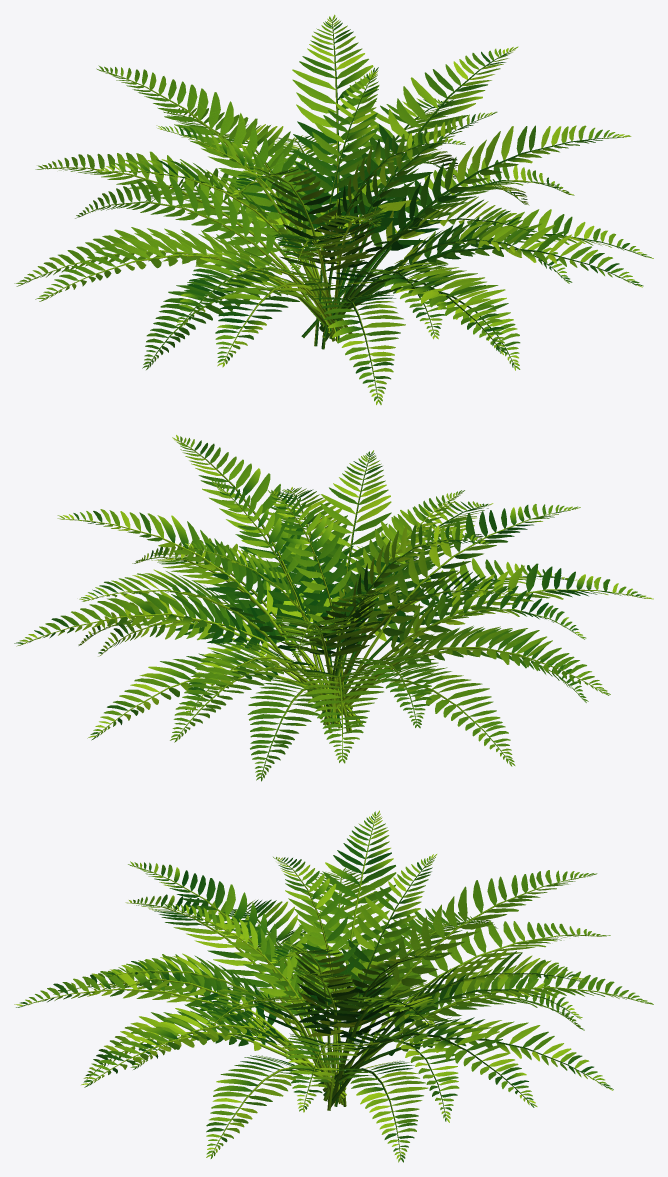
Rendered from Bush.fbx.
3 views of the same model, one above another, from view 1: azimuth 30°, elevation 25°; view 2: azimuth 150°, elevation 25°; view 3: azimuth 270°, elevation 25° (orthographic). The views are drawn at different scales.
Visible parts, largest first — view 1: Cylinder.004, Cylinder.027, Cylinder.025, Cylinder.017, Cylinder.032, Cylinder.024, Cylinder.012, Cylinder.009, Cylinder.014, Cylinder.006, Cylinder.010, Cylinder.008 (+23 smaller); view 2: Cylinder.017, Cylinder.021, Cylinder.019, Cylinder.033, Cylinder.004, Cylinder.002, Cylinder.010, Cylinder.031, Cylinder.012, Cylinder.030, Cylinder.013, Cylinder.028 (+22 smaller); view 3: Cylinder.025, Cylinder.023, Cylinder.021, Cylinder.029, Cylinder.034, Cylinder.002, Cylinder.014, Cylinder.005, Cylinder.008, Cylinder.003, Cylinder, Cylinder.010 (+23 smaller).
Boxes of the visible parts, bbox=[...] form: Cylinder.004: bbox=[329, 46, 518, 338]; Cylinder.027: bbox=[292, 14, 385, 341]; Cylinder.025: bbox=[96, 65, 335, 341]; Cylinder.017: bbox=[325, 125, 631, 341]; Cylinder.032: bbox=[294, 67, 378, 346]; Cylinder.024: bbox=[75, 176, 343, 328]; Cylinder.012: bbox=[35, 233, 321, 315]; Cylinder.009: bbox=[307, 293, 405, 404]; Cylinder.014: bbox=[35, 151, 313, 304]; Cylinder.006: bbox=[319, 223, 643, 330]; Cylinder.010: bbox=[215, 271, 347, 367]; Cylinder.008: bbox=[333, 262, 507, 354]; Cylinder.017: bbox=[172, 435, 341, 728]; Cylinder.021: bbox=[326, 504, 580, 724]; Cylinder.019: bbox=[306, 450, 391, 724]; Cylinder.033: bbox=[268, 490, 367, 731]; Cylinder.004: bbox=[57, 509, 336, 723]; Cylinder.002: bbox=[14, 592, 348, 716]; Cylinder.010: bbox=[362, 563, 653, 685]; Cylinder.031: bbox=[211, 478, 334, 733]; Cylinder.012: bbox=[339, 625, 610, 709]; Cylinder.030: bbox=[323, 490, 464, 725]; Cylinder.013: bbox=[336, 665, 515, 766]; Cylinder.028: bbox=[98, 588, 351, 716]; Cylinder.025: bbox=[341, 870, 597, 1084]; Cylinder.023: bbox=[307, 810, 396, 1110]; Cylinder.021: bbox=[128, 861, 340, 1103]; Cylinder.029: bbox=[332, 854, 436, 1106]; Cylinder.034: bbox=[273, 857, 361, 1091]; Cylinder.002: bbox=[325, 1017, 537, 1107]; Cylinder.014: bbox=[344, 921, 610, 1081]; Cylinder.005: bbox=[206, 1055, 332, 1158]; Cylinder.008: bbox=[14, 965, 302, 1060]; Cylinder.003: bbox=[334, 1060, 428, 1162]; Cylinder: bbox=[344, 961, 653, 1081]; Cylinder.010: bbox=[125, 894, 324, 1084].
Bounding box in the file's own units: 619 × 231 × 661.
1 material, 1 textured.
